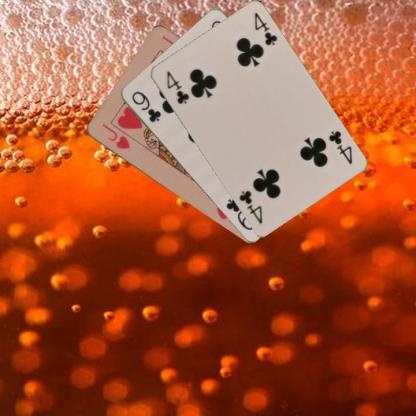4c: (325, 128, 354, 166), (164, 68, 190, 105)
9c: (129, 88, 162, 124)
Jh: (98, 120, 131, 151)
